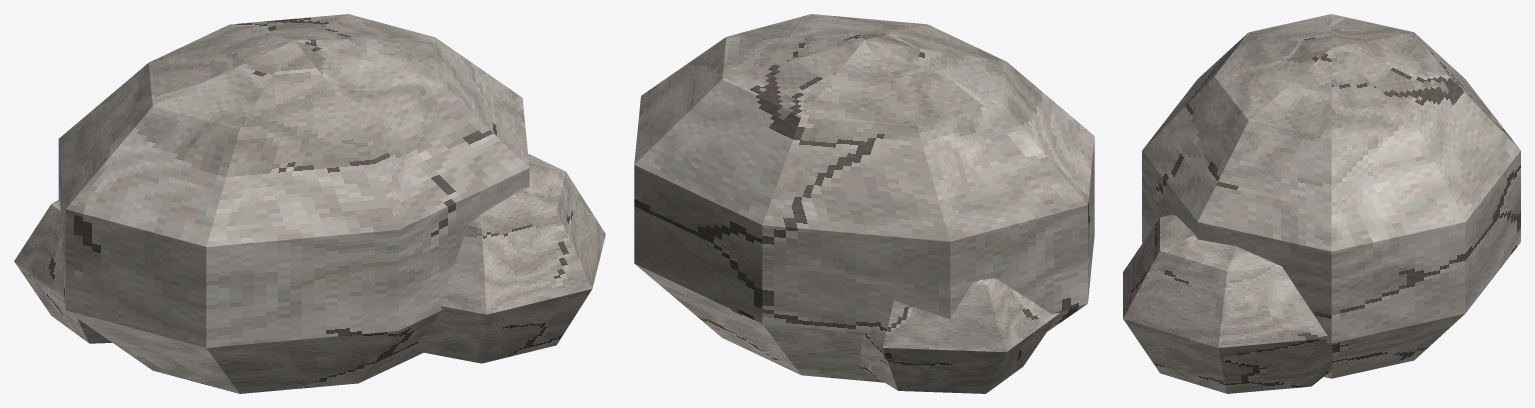
Rendered from pedra_pomes.glb.
The picture shows the model from 3 angles, left to right: view 1: azimuth 30°, elevation 25°; view 2: azimuth 150°, elevation 25°; view 3: azimuth 270°, elevation 25°; orthographic projection. The views are drawn at different scales.
Parts seen in each view (by area): view 1: pedra_pomes; view 2: pedra_pomes; view 3: pedra_pomes.
Part boxes in pixels (x1=…): pedra_pomes: x1=14, y1=14, x2=605, y2=393; pedra_pomes: x1=634, y1=14, x2=1094, y2=393; pedra_pomes: x1=1123, y1=14, x2=1520, y2=393.
Bounding box in the file's own units: 1.04 × 0.6817 × 0.8295.
Materials: 1 (1 with a texture image).
